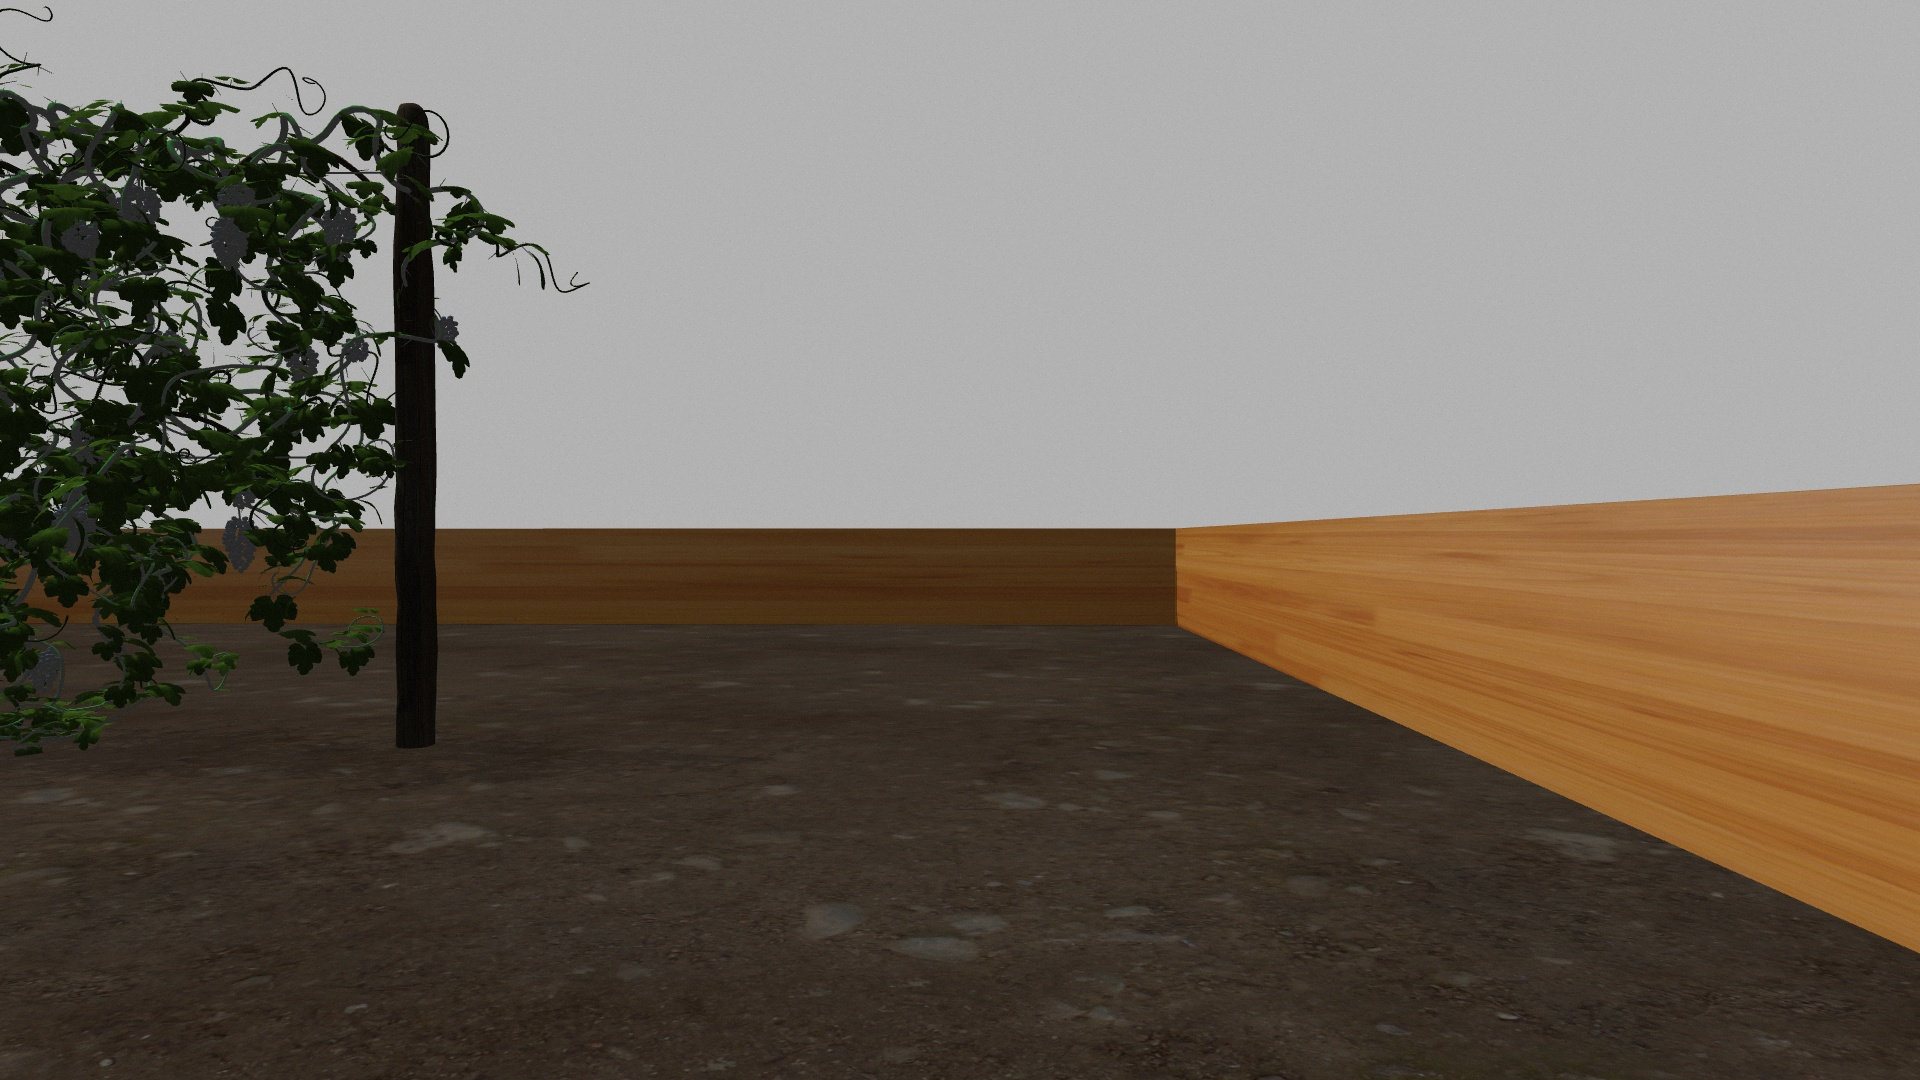grape: (220, 518, 264, 574), (54, 497, 95, 551), (210, 219, 249, 273), (26, 647, 63, 692), (62, 222, 102, 262), (320, 208, 359, 251), (284, 342, 320, 382), (218, 182, 258, 210), (435, 313, 462, 345), (343, 336, 371, 363)
